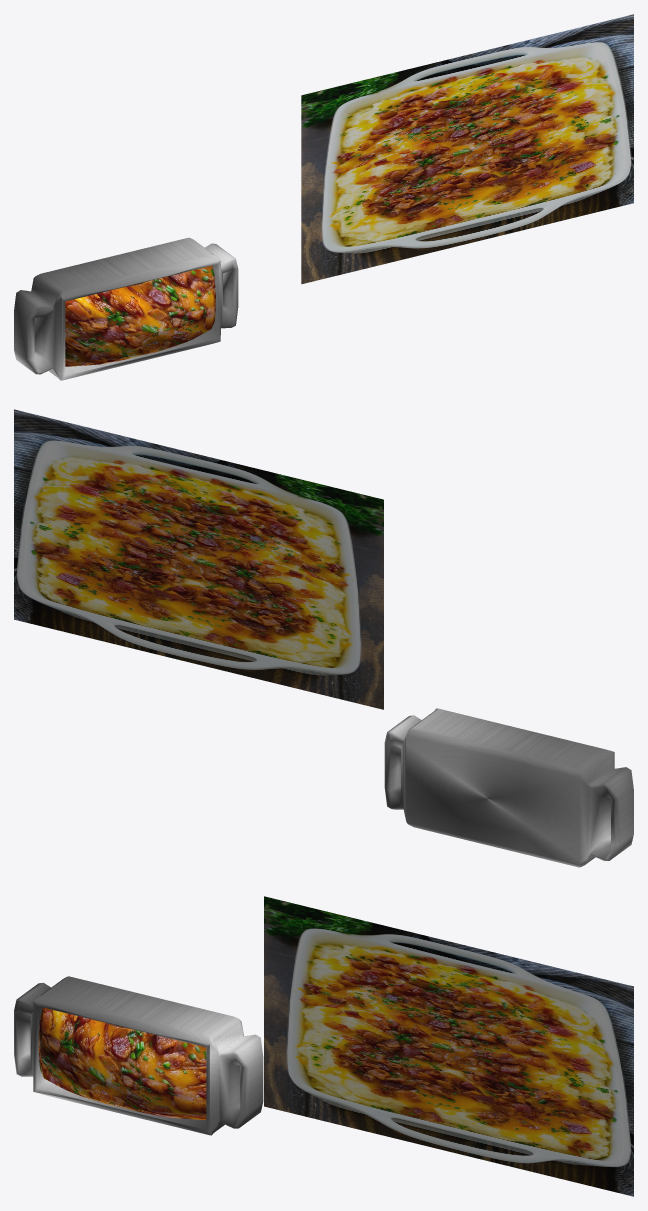
The model's file is CASSEROLE_01.FBX.
3 views of the same model, one above another, from view 1: azimuth 30°, elevation 25°; view 2: azimuth 150°, elevation 25°; view 3: azimuth 330°, elevation 25° (orthographic). The views are drawn at different scales.
Parts seen in each view (by area): view 1: Plane001, Box004, Box003; view 2: Plane001, Box004; view 3: Plane001, Box004, Box003.
Boxes of the visible parts, bbox=[...] form: Plane001: bbox=[301, 14, 633, 284]; Box004: bbox=[14, 237, 238, 380]; Box003: bbox=[65, 253, 215, 366]; Plane001: bbox=[14, 409, 383, 709]; Box004: bbox=[384, 708, 633, 867]; Plane001: bbox=[264, 896, 633, 1196]; Box004: bbox=[14, 976, 263, 1135]; Box003: bbox=[38, 1007, 218, 1119].
Size of the model in its own units: 11.88 by 4.8 by 1.62.
2 materials, 2 textured.
